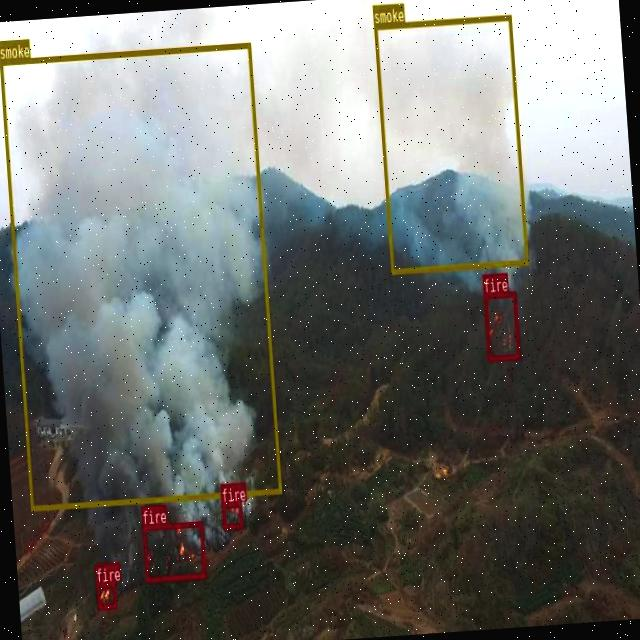fire: (142, 520, 206, 581), (483, 291, 520, 360), (220, 501, 242, 528), (95, 580, 116, 608)
smoke: (0, 42, 281, 509), (373, 14, 528, 273)
